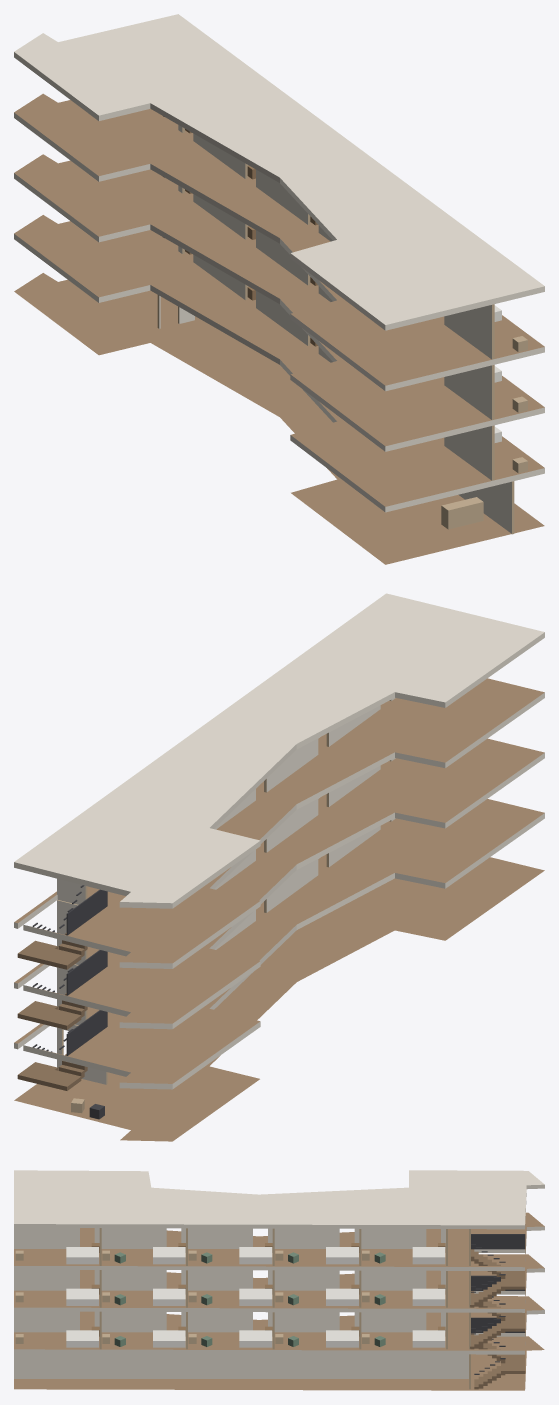
File: interior.glb
3 renders of one model, top to bottom at view 1: azimuth 30°, elevation 25°; view 2: azimuth 150°, elevation 25°; view 3: azimuth 270°, elevation 25°, orthographic. The views are drawn at different scales.
Visible parts, largest first — view 1: slabs, partitions, coarse-s0; view 2: slabs, partitions, stair; view 3: slabs, partitions, stair, coarse-s2, coarse-s3, coarse-s1.
Part boxes in pixels (x1,y1,x2,y2): slabs: (14, 14, 544, 564); partitions: (157, 125, 514, 534); coarse-s0: (441, 497, 483, 529); slabs: (14, 593, 544, 1141); partitions: (57, 698, 395, 1084); stair: (17, 885, 107, 1090); slabs: (14, 1170, 544, 1390); partitions: (14, 1228, 470, 1389); stair: (470, 1234, 525, 1389); coarse-s2: (15, 1284, 445, 1305); coarse-s3: (15, 1243, 445, 1264); coarse-s1: (15, 1326, 445, 1347).
Size of the model in its own units: 7.92 by 11.1 by 32.25.
